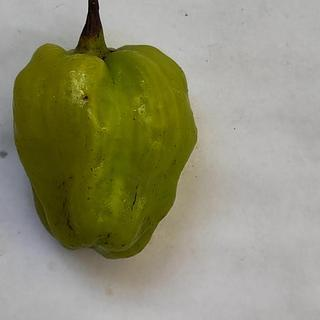Fly-bites: (73, 87, 94, 104), (100, 238, 113, 251), (103, 226, 114, 241), (118, 241, 129, 252)
striped: (65, 213, 78, 233), (129, 191, 138, 210)
